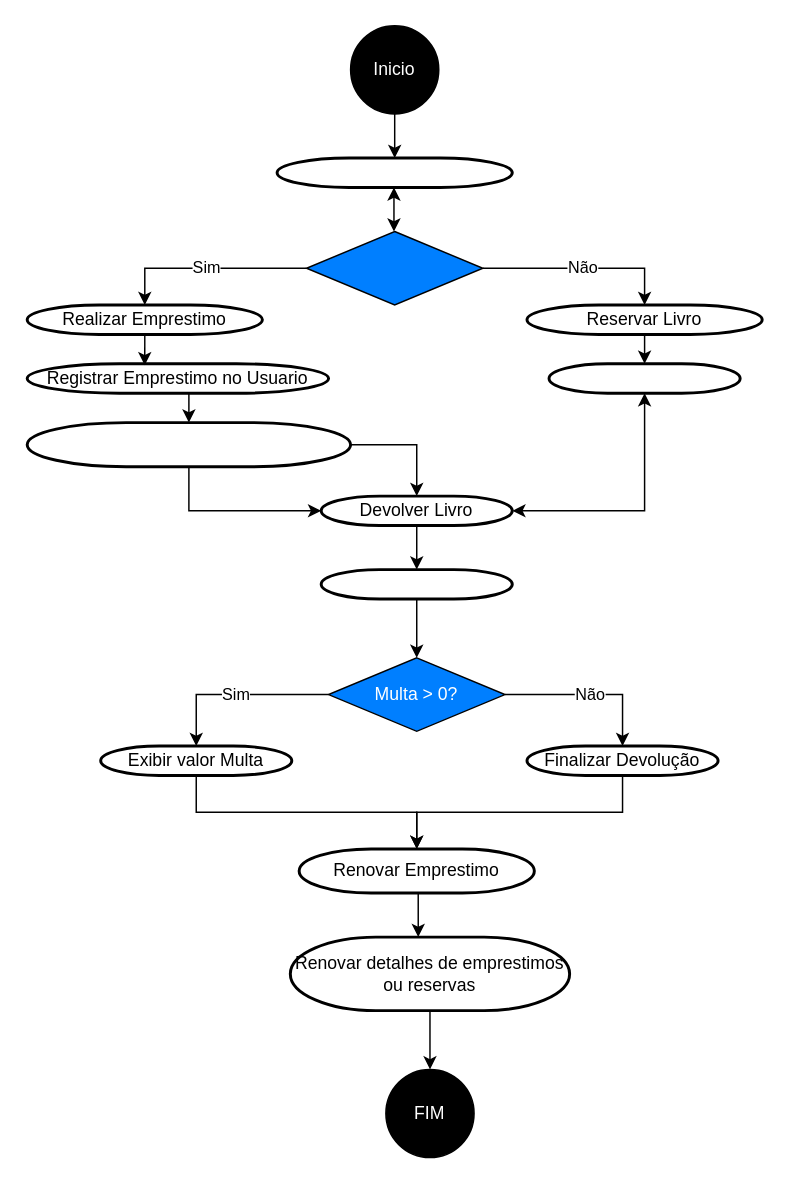
The diagram is 788 pixels wide and 1183 high, and some of its shapes have lost their labels. Here are the shapes that lost their labels. From the top down, the centre of each, then its label:
pixel 394 172: Processar Livro
pixel 394 267: Livro Disponivel ?
pixel 644 378: Registrar Reserva
pixel 188 443: Atualizar Status do Livro para "Emprestado"
pixel 416 583: Calcular Multa
